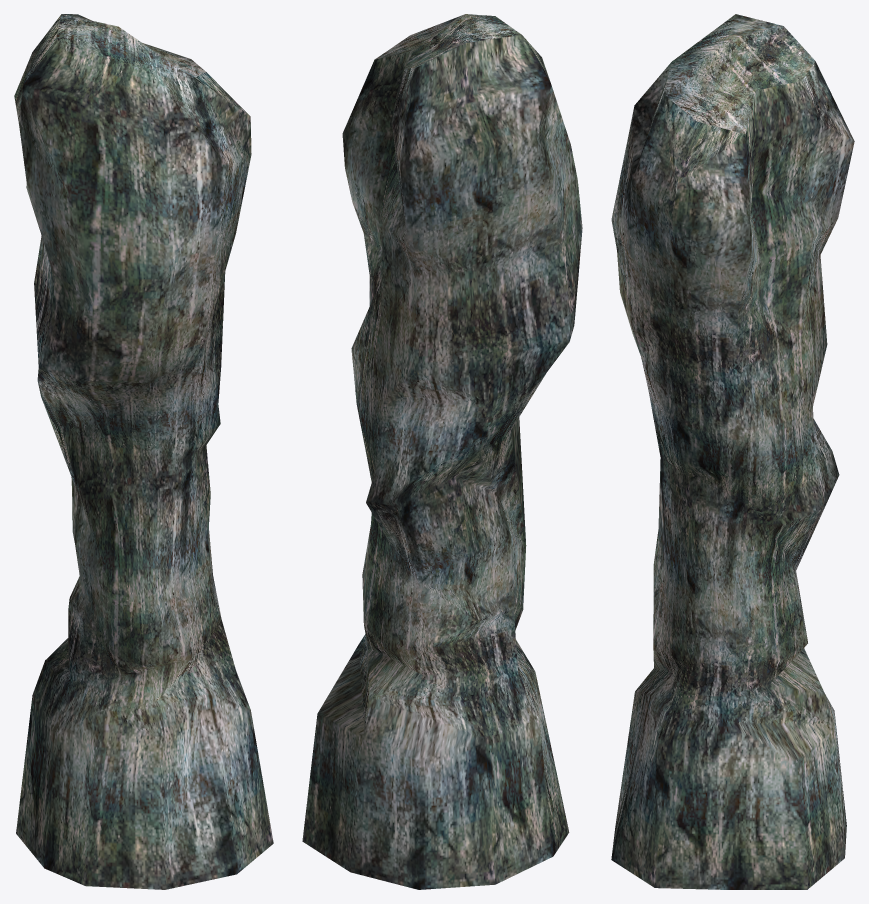
The model's file is rock_dath_desertspire_l1.fbx.
3 renders of one model, left to right at view 1: azimuth 30°, elevation 25°; view 2: azimuth 150°, elevation 25°; view 3: azimuth 270°, elevation 25°, orthographic. The views are drawn at different scales.
Parts seen in each view (by area): view 1: mesh_node; view 2: mesh_node; view 3: mesh_node.
Boxes of the visible parts, x1,y1,x2,y2 form: mesh_node: (14, 14, 273, 889); mesh_node: (302, 14, 582, 889); mesh_node: (611, 14, 854, 889).
Size of the model in its own units: 17.94 by 65.98 by 18.32.
